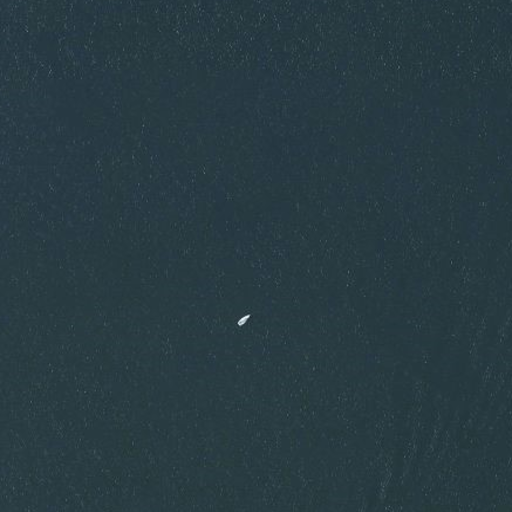ship: (234, 312, 255, 328)
